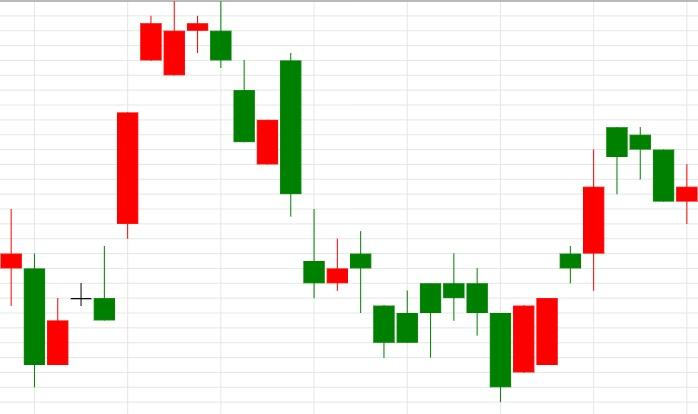evening_star_fall: (94, 1, 231, 320)
hanging_man_fall: (513, 127, 628, 372)
inverse_hammer_rise: (211, 1, 325, 299)
